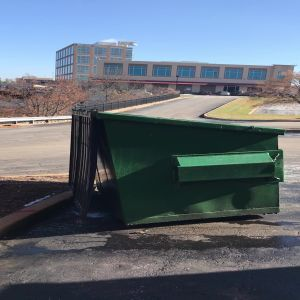Dumpster: (68, 104, 288, 231)
